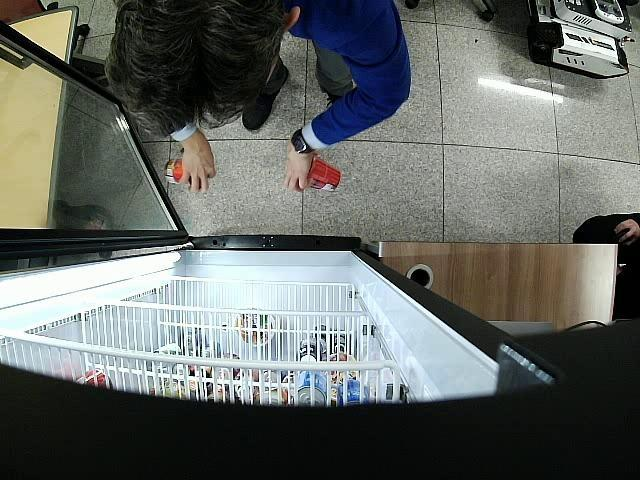02_shinRamen_S: (308, 155, 341, 192), (165, 158, 201, 188)
